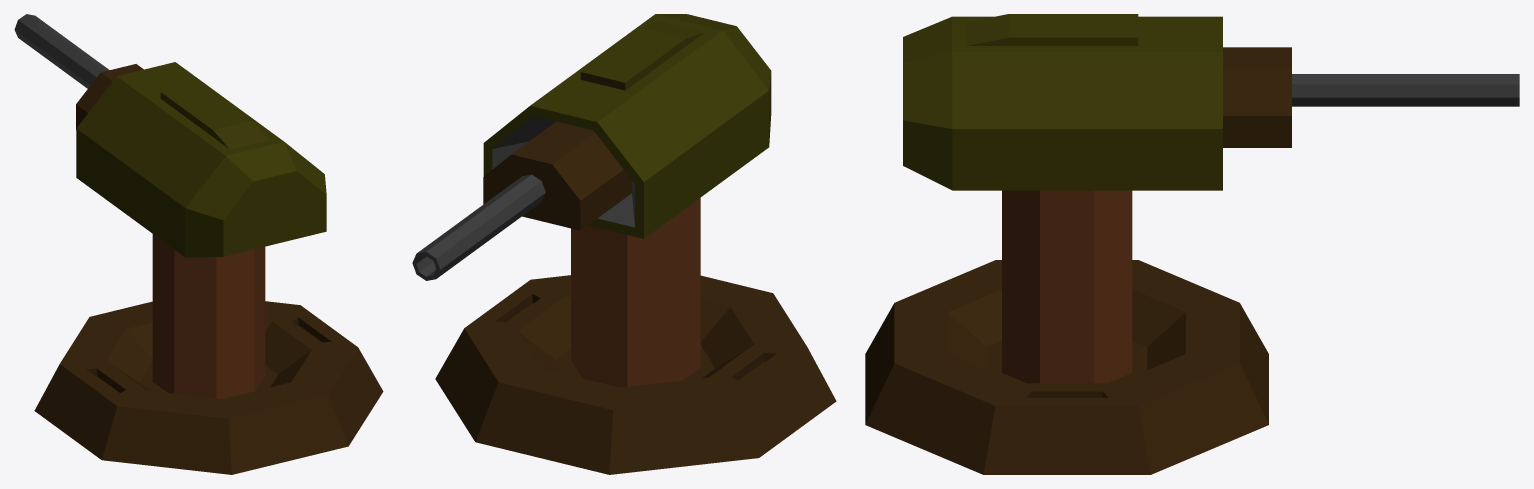
Rendered from Cannon.fbx.
3 views of the same model, side by side, from view 1: azimuth 30°, elevation 25°; view 2: azimuth 150°, elevation 25°; view 3: azimuth 270°, elevation 25° (orthographic). The views are drawn at different scales.
Parts seen in each view (by area): view 1: Cannon_Base, Cannon_Body, Cannon_Shaft, Cannon_Turret; view 2: Cannon_Base, Cannon_Body, Cannon_Shaft, Cannon_Turret; view 3: Cannon_Base, Cannon_Body, Cannon_Shaft, Cannon_Turret.
Boxes of the visible parts, x1=… form: Cannon_Base: x1=34, y1=301, x2=383, y2=474; Cannon_Body: x1=76, y1=62, x2=326, y2=257; Cannon_Shaft: x1=152, y1=234, x2=265, y2=398; Cannon_Turret: x1=14, y1=14, x2=143, y2=129; Cannon_Base: x1=435, y1=275, x2=836, y2=474; Cannon_Body: x1=483, y1=14, x2=771, y2=238; Cannon_Shaft: x1=571, y1=198, x2=700, y2=387; Cannon_Turret: x1=412, y1=121, x2=631, y2=280; Cannon_Base: x1=865, y1=260, x2=1268, y2=474; Cannon_Body: x1=903, y1=14, x2=1222, y2=190; Cannon_Shaft: x1=1002, y1=190, x2=1132, y2=383; Cannon_Turret: x1=1223, y1=47, x2=1519, y2=147.
Bounding box in the file's own units: 1.29 × 2.1 × 1.29.
